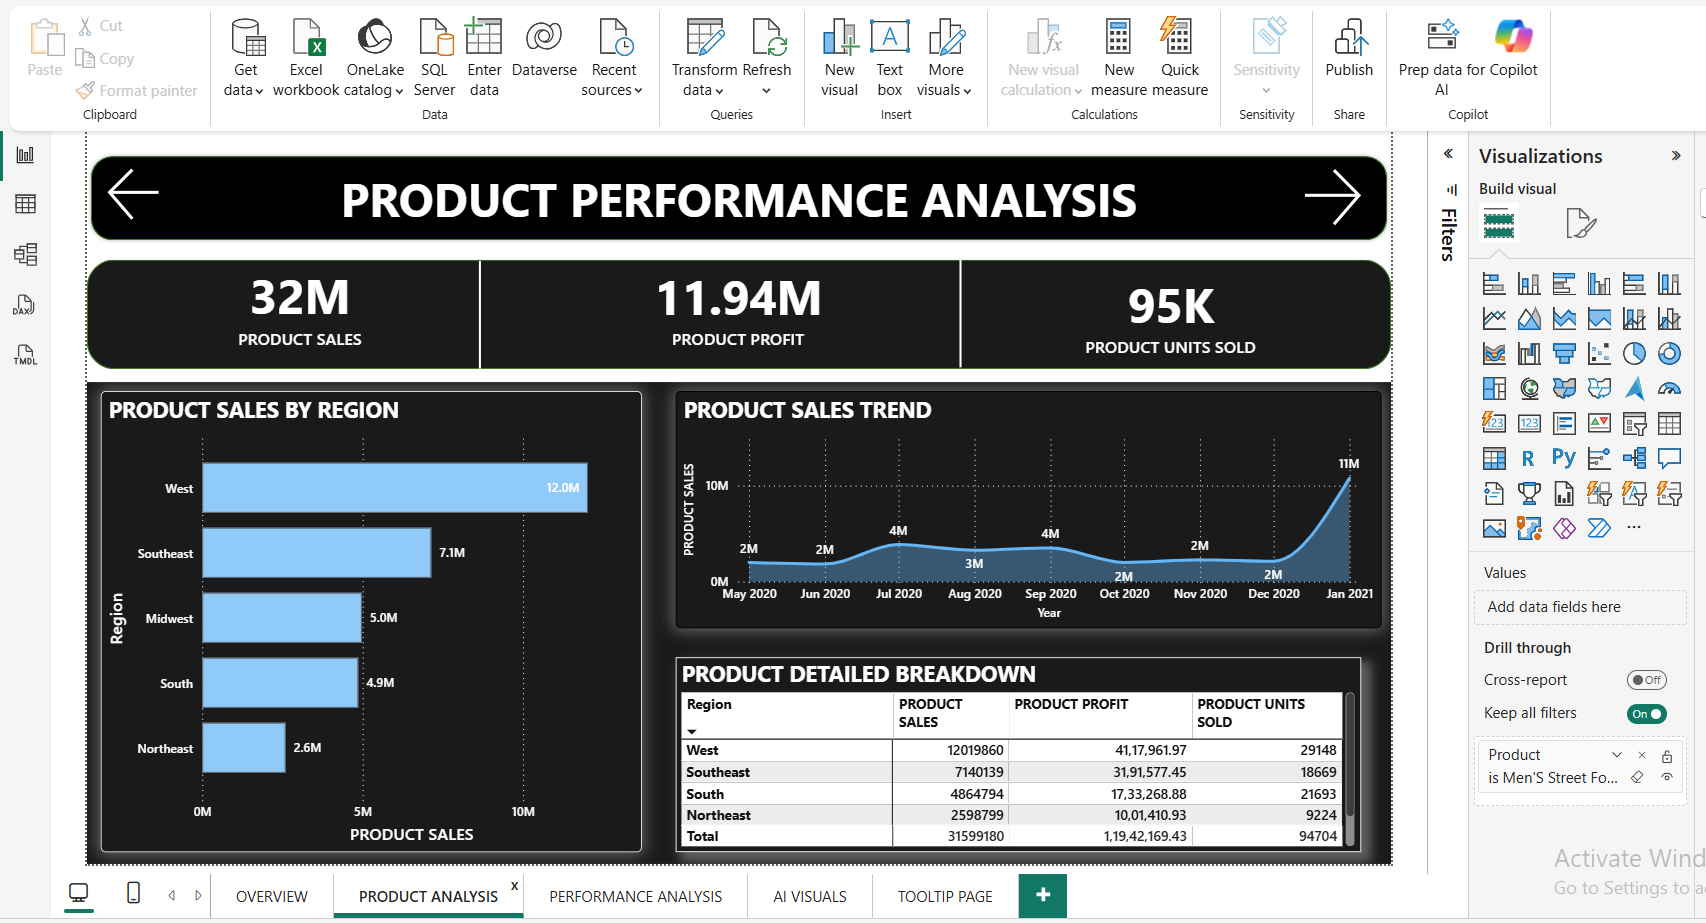

The page's visual inventory and layout, read from the dashboard file:
{"tool":"powerbi","page":{"name":"PRODUCT ANALYSIS","canvas":[1280,720],"ordinal":1},"visuals":[{"type":"shape","box":[0,20.4,1280,90.2],"z":0},{"type":"actionButton","box":[14.7,20.9,109.2,82.2],"z":1000},{"type":"shape","box":[0,126,1280,107.2],"z":2000},{"type":"card","fields":{"Values":["Adidas Sales.PRODUCT UNITS SOLD"]},"box":[922.6,105.5,282.6,149.8],"z":3000},{"type":"card","fields":{"Values":["Adidas Sales.PRODUCT PROFIT"]},"box":[498.7,97,282.6,149.8],"z":4000},{"type":"card","fields":{"Values":["Adidas Sales.PRODUCT SALES"]},"box":[66.4,110.6,286,122.6],"z":5000},{"type":"shape","box":[364.3,127.7,42.6,105.5],"z":6000},{"type":"shape","box":[832.3,126,51.1,105.5],"z":7000},{"type":"shape","box":[0,246.8,1280,473.2],"z":8000},{"type":"lineChart","title":"PRODUCT SALES TREND","fields":{"Category":["Adidas Sales.Invoice Date.Variation.Date Hierarchy.Year","Adidas Sales.Invoice Date.Variation.Date Hierarchy.Month"],"Y":["Adidas Sales.PRODUCT SALES"]},"box":[577.6,254.7,692.4,233],"z":9000},{"type":"clusteredBarChart","title":"PRODUCT SALES BY REGION","fields":{"Category":["Adidas Sales.Region"],"Y":["Adidas Sales.PRODUCT SALES"]},"box":[13.3,254.7,531,452.7],"z":10000},{"type":"pivotTable","title":"PRODUCT DETAILED BREAKDOWN","fields":{"Values":["Adidas Sales.PRODUCT SALES","Adidas Sales.PRODUCT PROFIT","Adidas Sales.PRODUCT UNITS SOLD"],"Rows":["Adidas Sales.Region"]},"box":[577.6,516,672.5,191.4],"z":11000},{"type":"actionButton","box":[1187.7,30.7,92,68.7],"z":15001}]}

Visuals, with their boxes on the page's 1280x720 design canvas (x1, y1, x2, y2). These are canvas units, not pixel positions in the 1706x923 screenshot, which may show the page scaled, cropped or inside an application window:
shape: Rect(0, 20, 1280, 111)
actionButton: Rect(15, 21, 124, 103)
shape: Rect(0, 126, 1280, 233)
card - Adidas Sales.PRODUCT UNITS SOLD: Rect(923, 106, 1205, 255)
card - Adidas Sales.PRODUCT PROFIT: Rect(499, 97, 781, 247)
card - Adidas Sales.PRODUCT SALES: Rect(66, 111, 352, 233)
shape: Rect(364, 128, 407, 233)
shape: Rect(832, 126, 883, 232)
shape: Rect(0, 247, 1280, 720)
"PRODUCT SALES TREND" lineChart: Rect(578, 255, 1270, 488)
"PRODUCT SALES BY REGION" clusteredBarChart: Rect(13, 255, 544, 707)
"PRODUCT DETAILED BREAKDOWN" pivotTable: Rect(578, 516, 1250, 707)
actionButton: Rect(1188, 31, 1280, 99)
